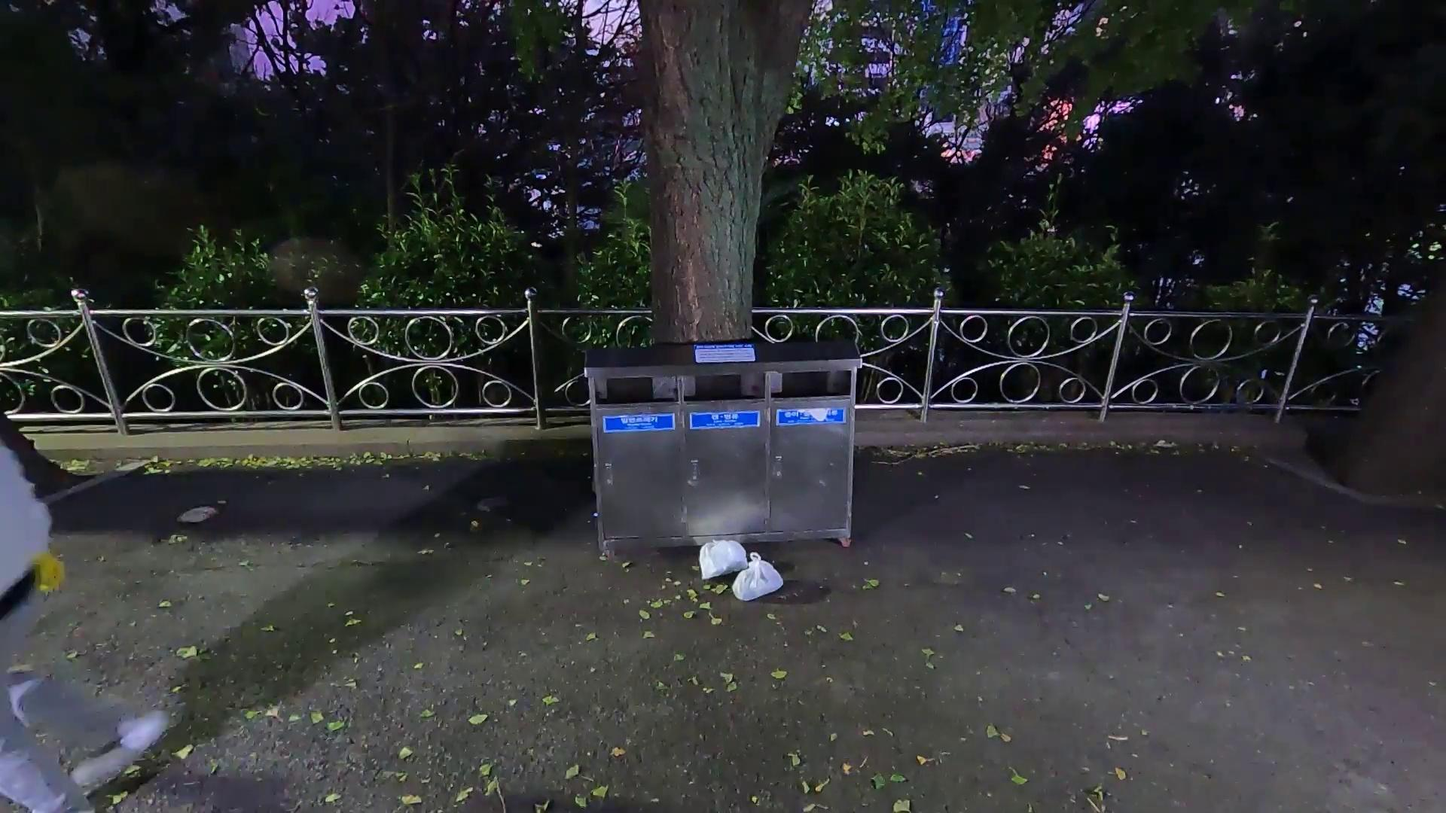person: (2, 383, 183, 813)
trash: (729, 552, 787, 603), (698, 536, 754, 580)
